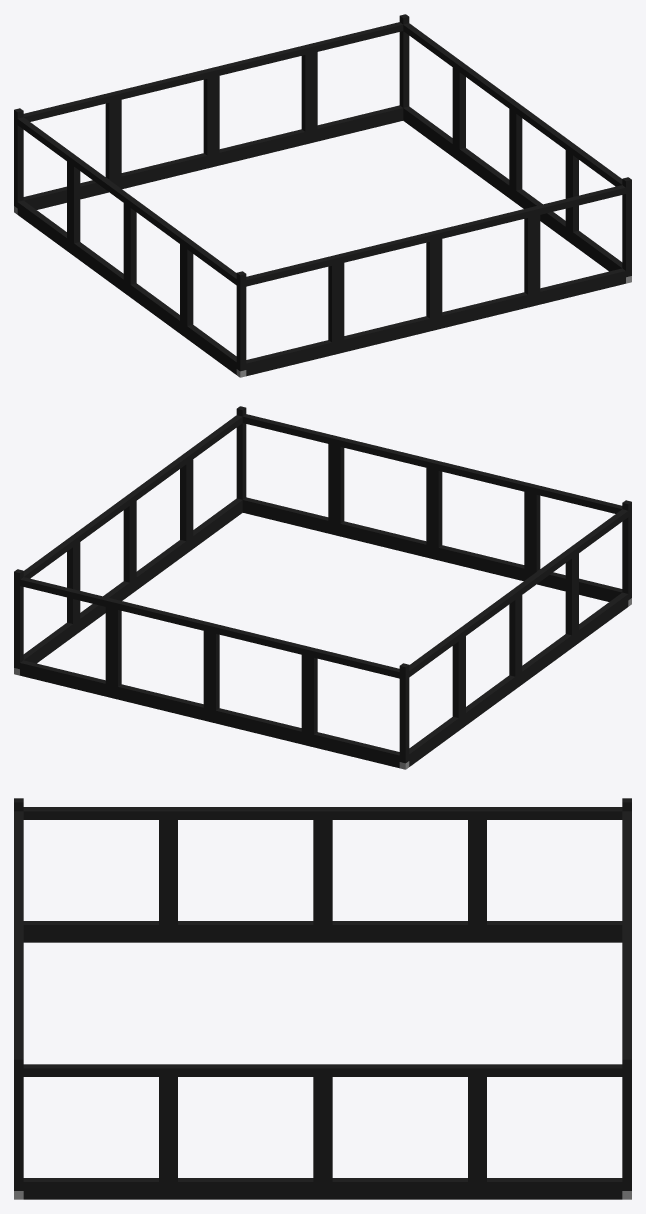
File: Tutorialmap_V2_unfinished-24.obj
3 views of the same model, one above another, from view 1: azimuth 30°, elevation 25°; view 2: azimuth 150°, elevation 25°; view 3: azimuth 270°, elevation 25° (orthographic). The views are drawn at different scales.
Size of the model in its own units: 6.4 by 1.6 by 6.4.
Materials: 1 (1 with a texture image).
